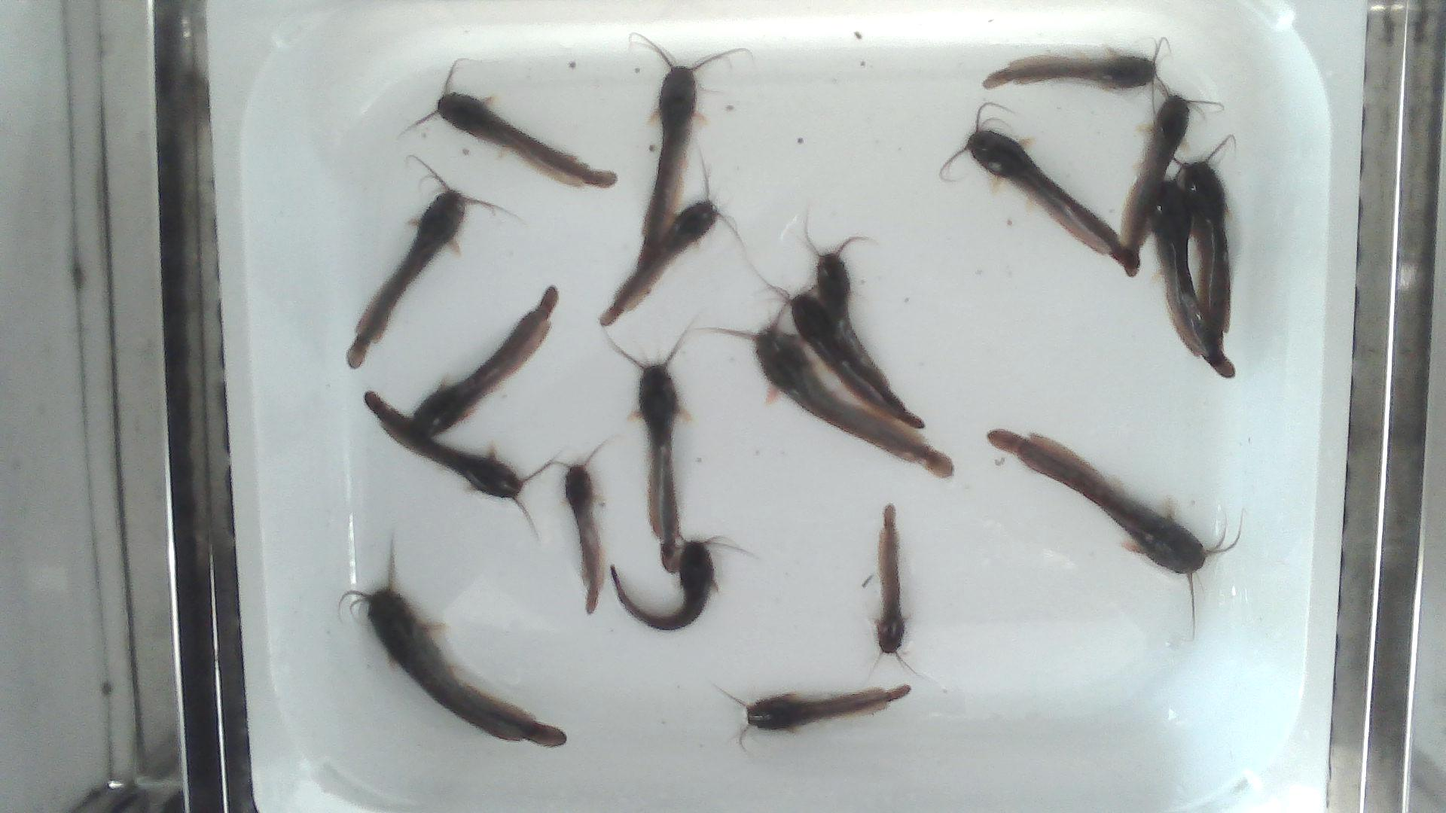lele: (987, 430, 1240, 635), (706, 322, 955, 478), (362, 558, 566, 747), (939, 100, 1139, 276), (630, 29, 751, 247), (761, 276, 928, 431), (600, 149, 739, 327), (603, 319, 696, 573), (347, 179, 465, 367), (412, 285, 559, 434), (1144, 175, 1238, 378), (1119, 74, 1226, 249), (435, 92, 615, 187), (365, 391, 523, 498), (798, 209, 889, 386), (718, 685, 909, 757), (1175, 133, 1238, 351), (611, 540, 715, 630), (984, 50, 1156, 89), (563, 455, 605, 614), (875, 504, 906, 653)
